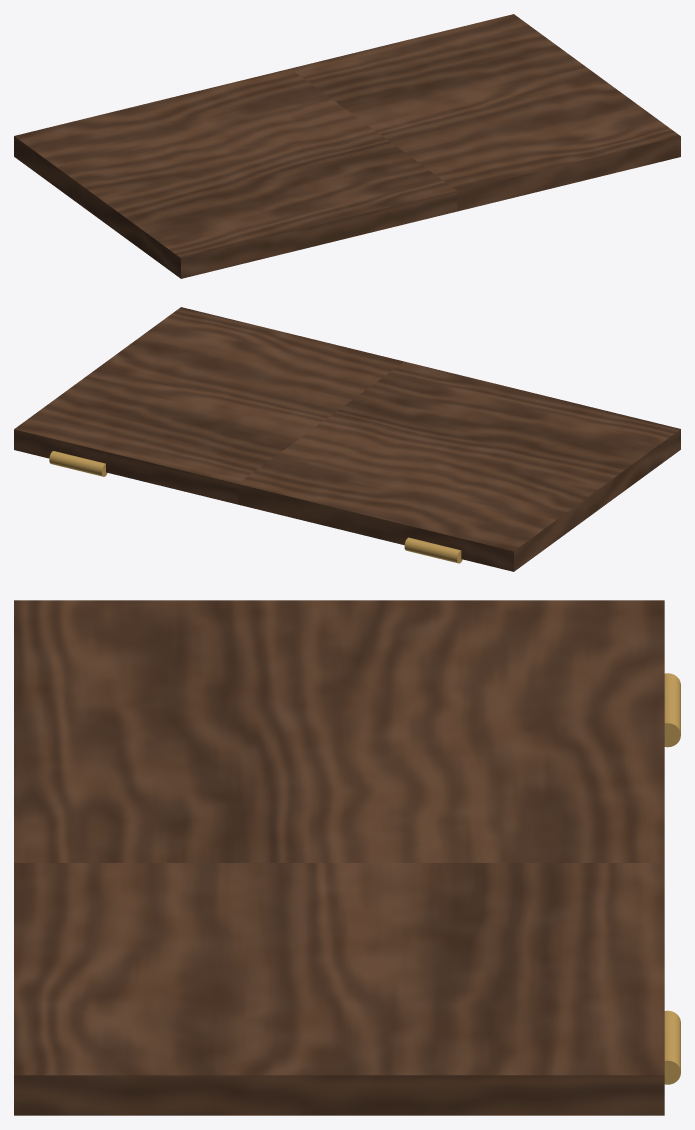
Rendered from lid_walnut.glb.
3 renders of one model, top to bottom at view 1: azimuth 30°, elevation 25°; view 2: azimuth 150°, elevation 25°; view 3: azimuth 270°, elevation 25°, orthographic. The views are drawn at different scales.
Parts seen in each view (by area): view 1: lid_walnut; view 2: lid_walnut; view 3: lid_walnut.
Boxes of the visible parts, left/top/right/bottom form: lid_walnut: left=14, top=14, right=680, bottom=278; lid_walnut: left=14, top=307, right=680, bottom=571; lid_walnut: left=14, top=600, right=680, bottom=1115.
Bounding box in the file's own units: 0.38 × 0.0175 × 0.2255.
3 materials, 2 textured.
